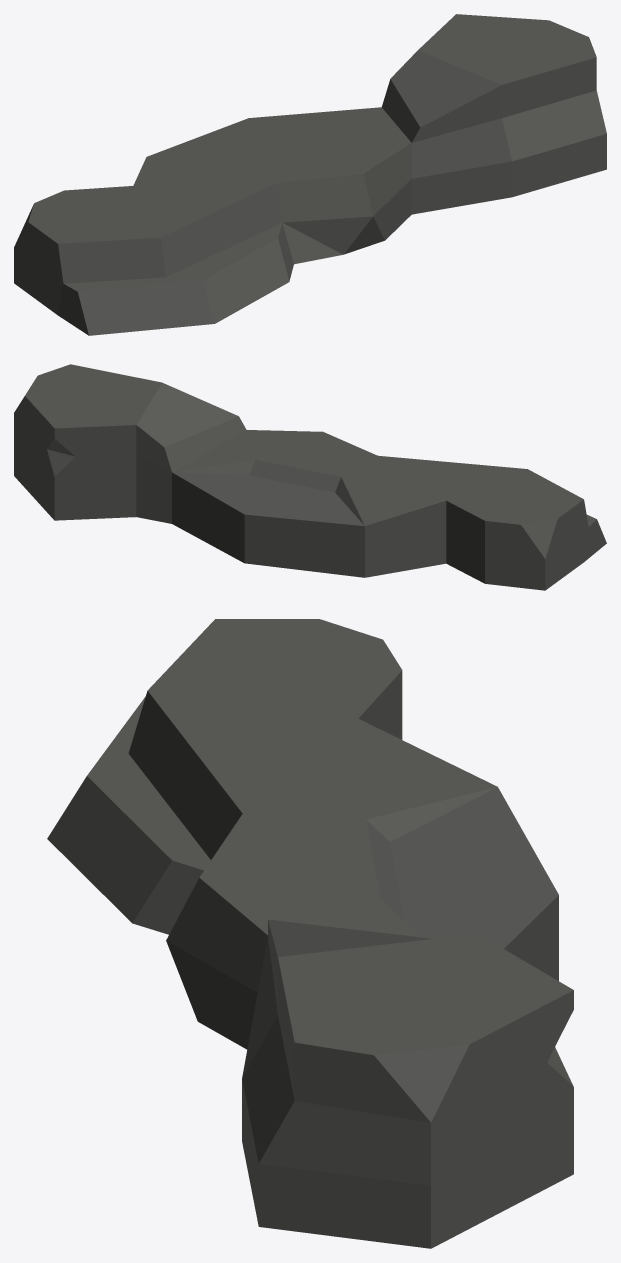
The model's file is SM_Envr_Nature_Rock_Group_08.fbx.
3 renders of one model, top to bottom at view 1: azimuth 30°, elevation 25°; view 2: azimuth 150°, elevation 25°; view 3: azimuth 270°, elevation 25°, orthographic. The views are drawn at different scales.
Parts seen in each view (by area): view 1: SM_Envr_Nature_Rock_Group_08; view 2: SM_Envr_Nature_Rock_Group_08; view 3: SM_Envr_Nature_Rock_Group_08.
Part boxes in pixels (x1,y1,x2,y2): SM_Envr_Nature_Rock_Group_08: (14,14,606,335); SM_Envr_Nature_Rock_Group_08: (14,364,606,590); SM_Envr_Nature_Rock_Group_08: (47,619,573,1248).
Size of the model in its own units: 1537 by 262 by 680.
